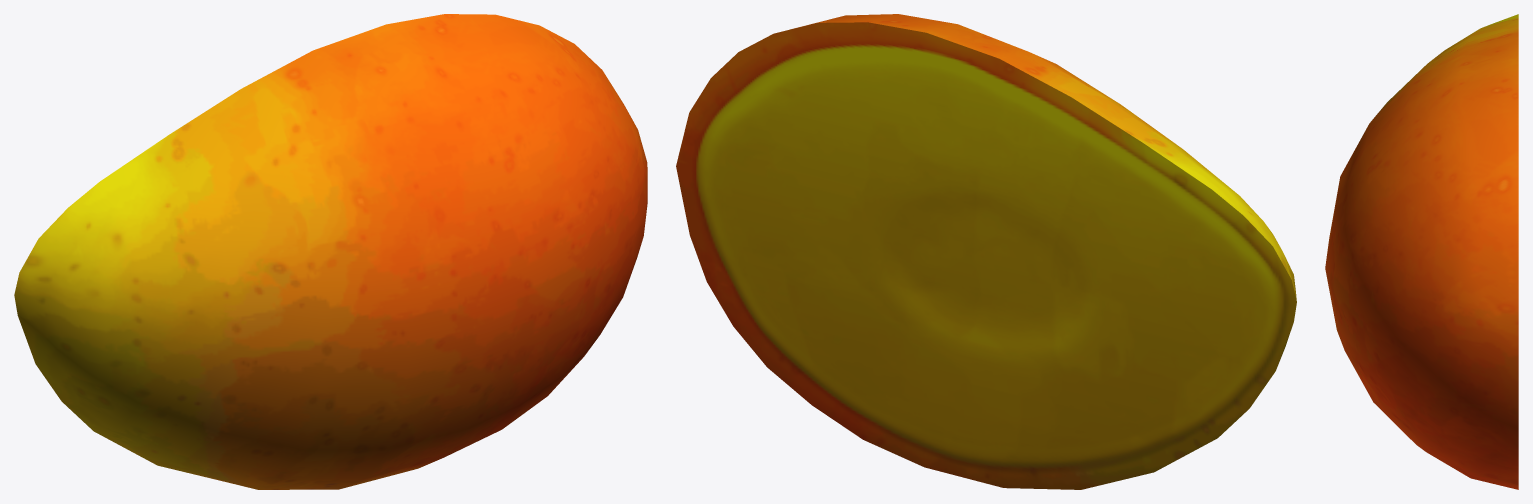
File: SM_MangoCutA.fbx
3 views of the same model, side by side, from view 1: azimuth 30°, elevation 25°; view 2: azimuth 150°, elevation 25°; view 3: azimuth 270°, elevation 25° (orthographic). The views are drawn at different scales.
Parts seen in each view (by area): view 1: SM_MangoCutA; view 2: SM_MangoCutA; view 3: SM_MangoCutA.
Boxes of the visible parts, <box> form: SM_MangoCutA: <box>14,14,647,489</box>; SM_MangoCutA: <box>676,14,1296,489</box>; SM_MangoCutA: <box>1325,14,1518,489</box>.
Size of the model in its own units: 22.73 by 15.27 by 6.56.
